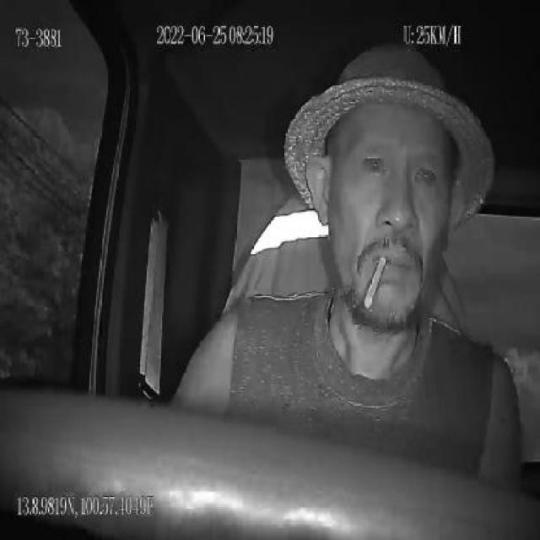smoking: (363, 253, 387, 311)
